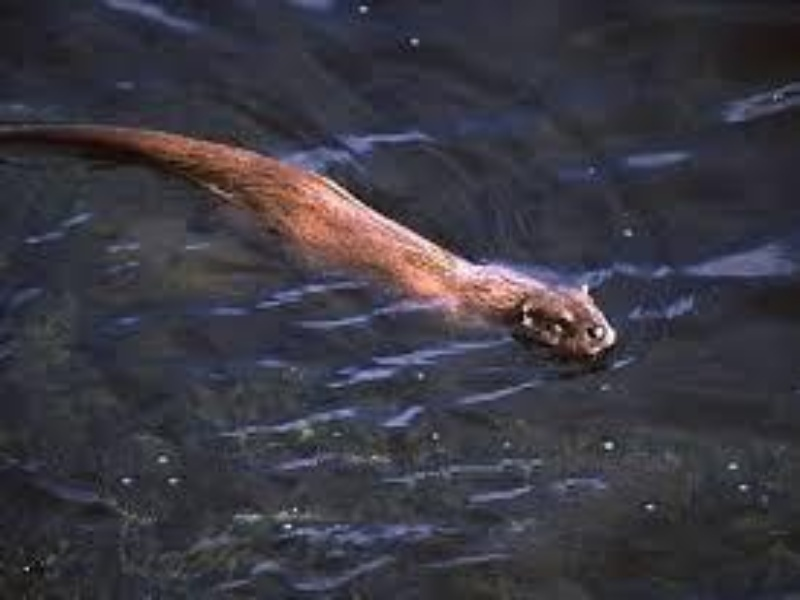minkish: (1, 106, 619, 362)
